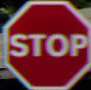Stop: (3, 1, 88, 86)
